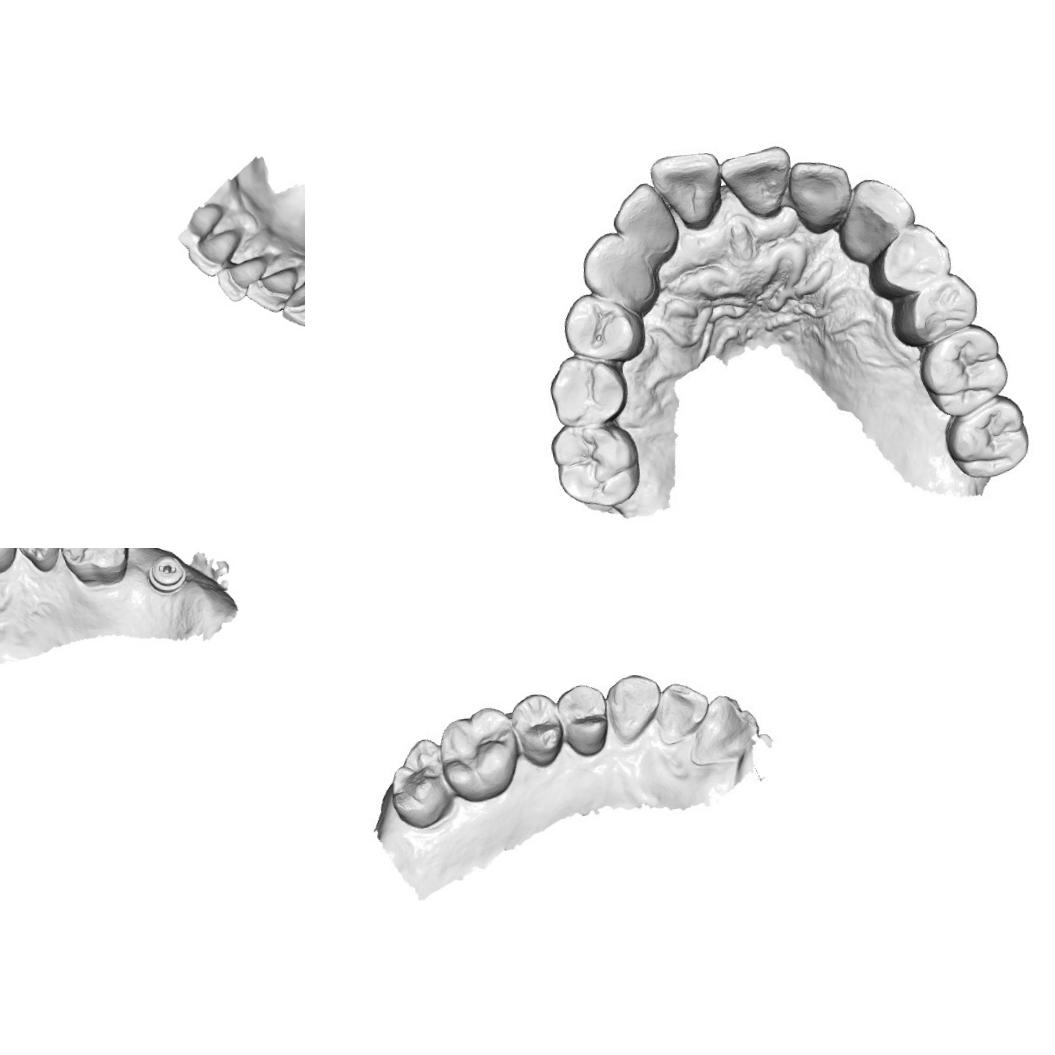canine: (832, 174, 911, 265), (580, 228, 658, 310), (602, 670, 666, 744), (278, 269, 305, 330)
implant_minus: (141, 550, 190, 597)
incisor: (723, 143, 795, 223), (612, 179, 680, 258), (649, 148, 719, 224), (689, 689, 754, 769), (790, 160, 856, 230), (212, 247, 274, 304), (653, 680, 704, 746), (184, 227, 246, 278), (244, 265, 298, 314)
molar: (384, 734, 467, 834), (550, 420, 640, 510), (438, 706, 521, 800), (926, 328, 1008, 418), (948, 398, 1029, 478), (54, 548, 133, 590)
premolar: (865, 218, 958, 306), (546, 356, 627, 426), (903, 274, 978, 342), (562, 292, 634, 362), (551, 682, 613, 750), (514, 693, 564, 770), (10, 548, 66, 576)
